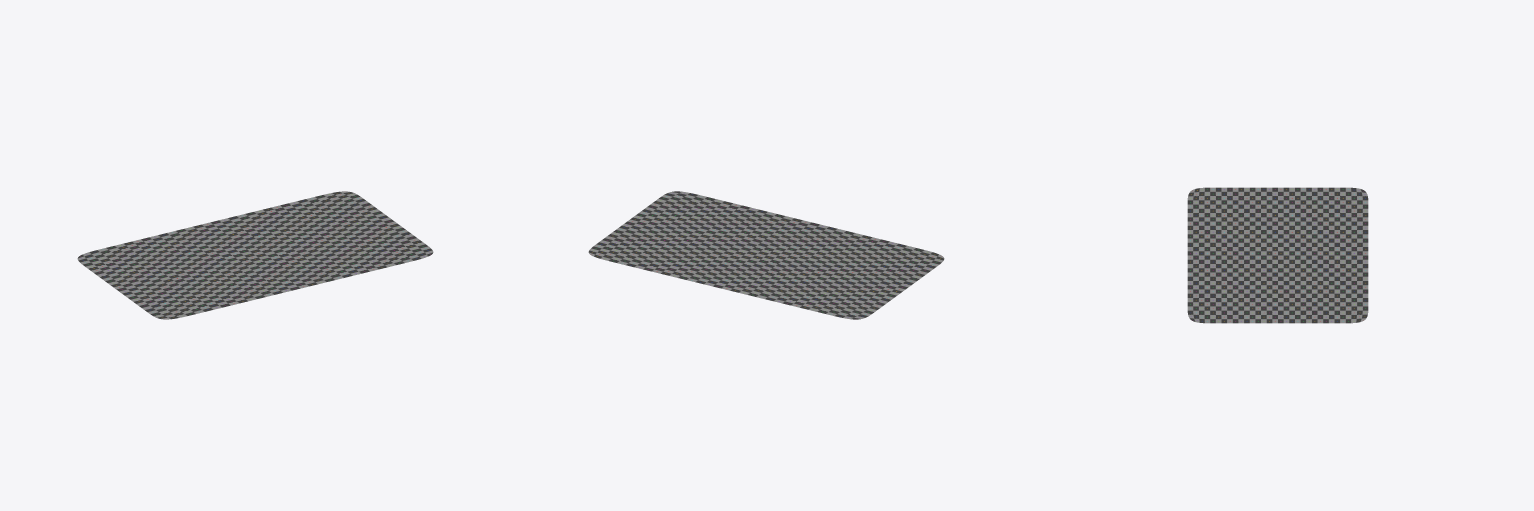
The model's file is paper_crumple.glb.
3 renders of one model, left to right at view 1: azimuth 30°, elevation 25°; view 2: azimuth 150°, elevation 25°; view 3: azimuth 270°, elevation 25°, orthographic.
Parts seen in each view (by area): view 1: Plane; view 2: Plane; view 3: Plane.
Boxes of the visible parts, <box> form: Plane: <box>77,191,433,319</box>; Plane: <box>588,191,944,319</box>; Plane: <box>1187,187,1368,323</box>.
Bounding box in the file's own units: 5.35 × 5.35 × 5.35.
Materials: 2 (1 with a texture image).
